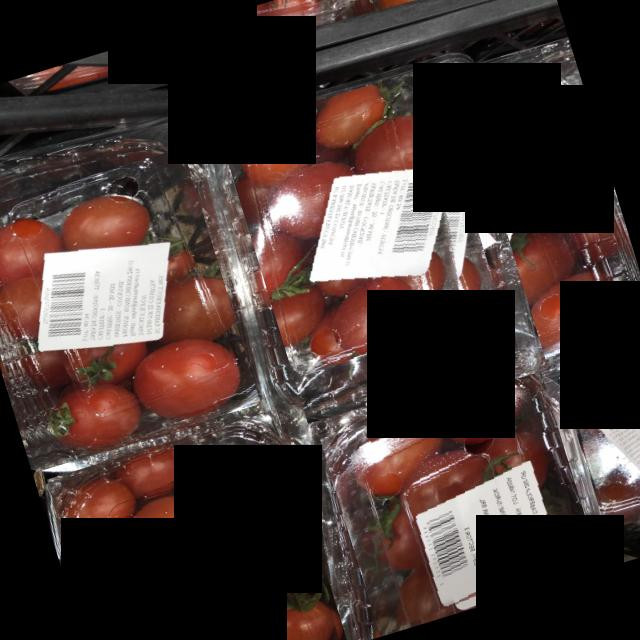tomatoes: (218, 66, 517, 424), (0, 147, 261, 472), (320, 371, 601, 636), (46, 409, 348, 640), (468, 72, 640, 366), (559, 345, 640, 530)
